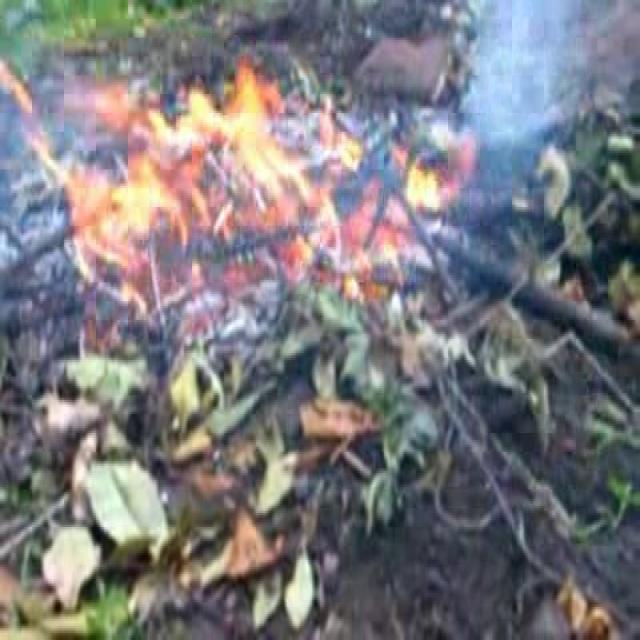Fire: (82, 78, 341, 282)
Smoke: (474, 20, 564, 176)
